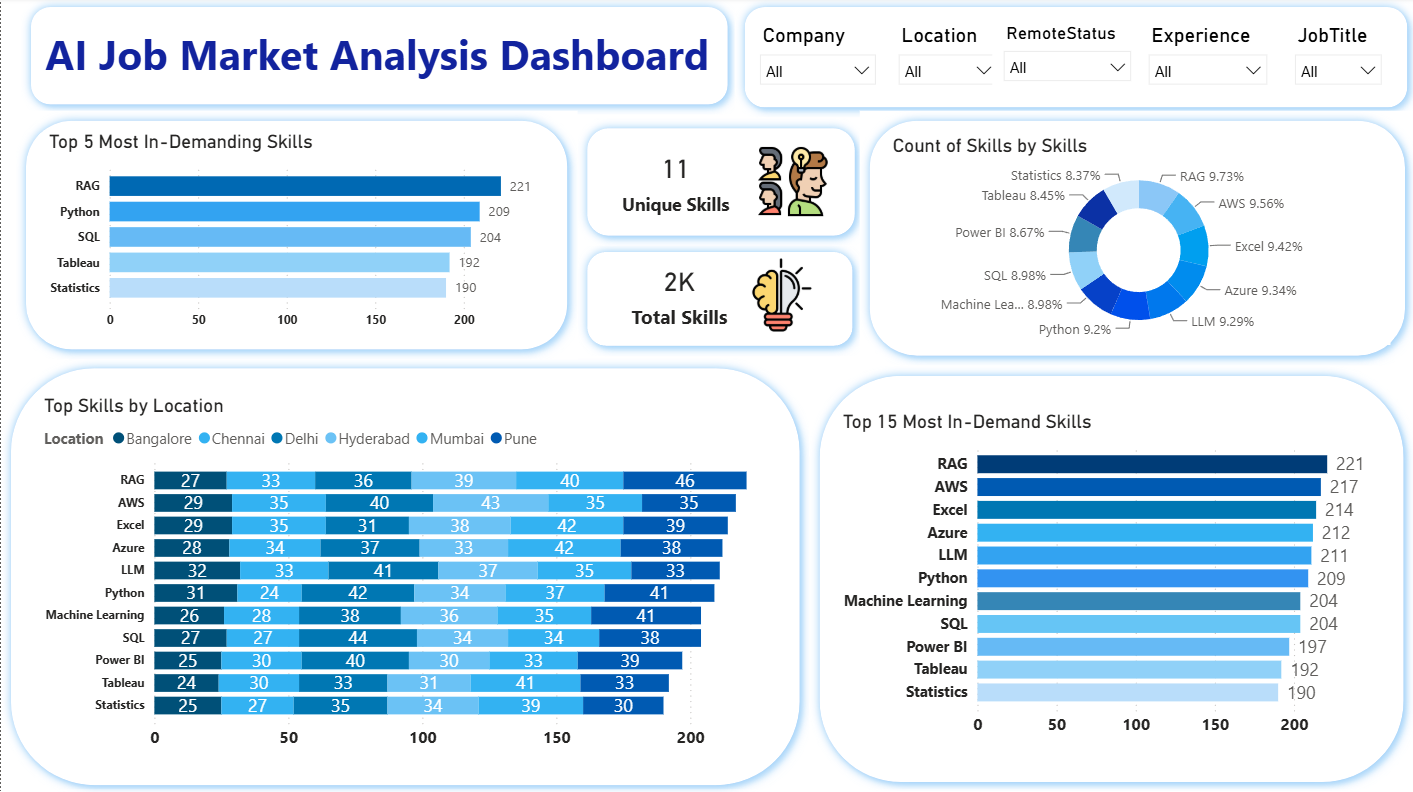

The page's visual inventory and layout, read from the dashboard file:
{"tool":"powerbi","page":{"name":"Skills Analytics","canvas":[1280,720],"ordinal":2},"visuals":[{"type":"group","id":"g1","title":"Group 3","box":[0,0,1280.4,721.8],"z":0},{"type":"shape","box":[663.2,0,617.3,108.9],"z":0,"group":"g18"},{"type":"shape","box":[17.6,0.4,648.2,106.2],"z":0,"group":"g5"},{"type":"shape","box":[13.7,102.9,507.7,225],"z":0,"group":"g13"},{"type":"group","id":"g2","title":"Group 1","box":[776.7,102.9,502.2,230.5],"z":0,"group":"g20"},{"type":"shape","box":[776.7,102.9,502.2,230.5],"z":0,"group":"g14"},{"type":"group","id":"g3","title":"Group 1","box":[521.4,109.3,256.6,115.3],"z":0,"group":"g15"},{"type":"shape","box":[521.4,109.3,260.1,115.3],"z":0,"group":"g3"},{"type":"group","id":"g4","title":"Group 1","box":[521.5,222,258,102.9],"z":0,"group":"g12"},{"type":"shape","box":[521.5,222,258,102.9],"z":0,"group":"g4"},{"type":"shape","box":[0,326.6,731.4,395.2],"z":0,"group":"g7"},{"type":"shape","box":[731.4,333.4,546.1,385.6],"z":0,"group":"g8"},{"type":"group","id":"g5","title":"Group 1","box":[17.6,0.4,648.2,106.2],"z":1000,"group":"g1"},{"type":"textbox","box":[34.7,21.9,615.4,64.6],"z":1000,"group":"g5"},{"type":"group","id":"g6","title":"Group 1","box":[13.7,102.9,507.7,225],"z":1000,"group":"g19"},{"type":"card","fields":{"Values":["AI_Job_Market.Unique Skills"]},"box":[549.7,124.2,121.7,82.3],"z":1000,"group":"g15"},{"type":"card","fields":{"Values":["AI_Job_Market.Total Skills"]},"box":[557.1,230.5,115.3,74.1],"z":1000,"group":"g12"},{"type":"group","id":"g7","title":"Group 1","box":[0,326.6,731.4,395.2],"z":1000,"group":"g9"},{"type":"group","id":"g8","title":"Group 1","box":[731.4,333.4,546.1,385.6],"z":1000,"group":"g10"},{"type":"barChart","title":"Top Skills by Location","fields":{"Category":["AI_Job_Market.Skills"],"Y":["CountNonNull(AI_Job_Market.Skills)"],"Series":["AI_Job_Market.Location"]},"box":[34.3,359.5,658.7,330.7],"z":1000},{"type":"group","id":"g9","title":"Group 5","box":[0,326.6,731.4,395.2],"z":1001,"group":"g17"},{"type":"group","id":"g10","title":"Group 4","box":[731.4,333.4,546.1,385.6],"z":1001,"group":"g16"},{"type":"group","id":"g11","title":"Group 6","box":[13.7,102.9,507.7,225],"z":2000},{"type":"donutChart","fields":{"Y":["CountNonNull(AI_Job_Market.Skills)"],"Category":["AI_Job_Market.Skills"]},"box":[802,124.4,455.3,190.4],"z":2000,"group":"g14"},{"type":"image","box":[672.9,133.8,88,64.5],"z":2000,"group":"g15"},{"type":"group","id":"g12","title":"Group 2","box":[521.5,222,258,102.9],"z":2000,"group":"g1"},{"type":"image","box":[659.8,236.3,94.2,66.6],"z":2000,"group":"g12"},{"type":"group","id":"g13","title":"Group 7","box":[13.7,102.9,507.7,225],"z":2001,"group":"g6"},{"type":"group","id":"g14","title":"Group 7","box":[776.7,102.9,502.2,230.5],"z":2001,"group":"g2"},{"type":"group","id":"g15","title":"Group 2","box":[521.4,109.3,256.6,115.3],"z":3000,"group":"g1"},{"type":"clusteredBarChart","title":"Top 5 Most In-Demanding Skills","fields":{"Category":["AI_Job_Market.Skills"],"Y":["CountNonNull(AI_Job_Market.Skills)"]},"box":[38.4,120.8,456.9,188],"z":3000},{"type":"group","id":"g16","title":"Group 2","box":[731.4,333.4,546.1,385.6],"z":4000,"group":"g1"},{"type":"group","id":"g17","title":"Group 2","box":[0,326.6,731.4,395.2],"z":5000,"group":"g1"},{"type":"group","id":"g18","title":"Group 1","box":[663.2,0,617.3,108.9],"z":6000,"group":"g1"},{"type":"clusteredBarChart","title":"Top 15 Most In-Demand Skills","fields":{"Y":["CountNonNull(AI_Job_Market.Skills)"],"Category":["AI_Job_Market.Skills"]},"box":[756.1,374.6,495.4,304.6],"z":6001,"group":"g10"},{"type":"slicer","fields":{"Values":["AI_Job_Market.Company"]},"box":[676.5,19.2,124.9,65.9],"z":7000,"group":"g1"},{"type":"slicer","fields":{"Values":["AI_Job_Market.Location"]},"box":[801.4,19.2,109.8,65.9],"z":8000,"group":"g1"},{"type":"slicer","fields":{"Values":["AI_Job_Market.RemoteStatus"]},"box":[896.1,19.2,135.8,65.9],"z":9000,"group":"g1"},{"type":"group","id":"g19","title":"Group 2","box":[13.7,102.9,507.7,225],"z":9000,"group":"g11"},{"type":"group","id":"g20","title":"Group 2","box":[776.7,102.9,502.2,230.5],"z":9000,"group":"g21"},{"type":"slicer","fields":{"Values":["AI_Job_Market.Experience"]},"box":[1027.8,19.2,127.6,65.9],"z":10000,"group":"g1"},{"type":"slicer","fields":{"Values":["AI_Job_Market.JobTitle"]},"box":[1159.6,19.2,98.8,65.9],"z":10000},{"type":"group","id":"g21","title":"Group 6","box":[776.7,102.9,502.2,230.5],"z":10500,"group":"g1"}]}

Visuals, with their boxes in screenshot pixels (x1, y1, x2, y2), scaled from the page's 1280x720 canvas onto the 1413x792 screenshot:
"Group 3" group: BBox(0, 0, 1412, 791)
shape: BBox(732, 0, 1412, 120)
shape: BBox(19, 0, 735, 117)
shape: BBox(15, 113, 576, 361)
"Group 1" group: BBox(857, 113, 1412, 367)
shape: BBox(857, 113, 1412, 367)
"Group 1" group: BBox(576, 120, 859, 247)
shape: BBox(576, 120, 863, 247)
"Group 1" group: BBox(576, 244, 860, 357)
shape: BBox(576, 244, 860, 357)
shape: BBox(0, 359, 807, 791)
shape: BBox(807, 367, 1410, 791)
"Group 1" group: BBox(19, 0, 735, 117)
textbox: BBox(38, 24, 718, 95)
"Group 1" group: BBox(15, 113, 576, 361)
card - AI_Job_Market.Unique Skills: BBox(607, 137, 741, 227)
card - AI_Job_Market.Total Skills: BBox(615, 254, 742, 335)
"Group 1" group: BBox(0, 359, 807, 791)
"Group 1" group: BBox(807, 367, 1410, 791)
"Top Skills by Location" barChart: BBox(38, 395, 765, 759)
"Group 5" group: BBox(0, 359, 807, 791)
"Group 4" group: BBox(807, 367, 1410, 791)
"Group 6" group: BBox(15, 113, 576, 361)
donutChart - CountNonNull(AI_Job_Market.Skills) x AI_Job_Market.Skills: BBox(885, 137, 1388, 346)
image: BBox(743, 147, 840, 218)
"Group 2" group: BBox(576, 244, 860, 357)
image: BBox(728, 260, 832, 333)
"Group 7" group: BBox(15, 113, 576, 361)
"Group 7" group: BBox(857, 113, 1412, 367)
"Group 2" group: BBox(576, 120, 859, 247)
"Top 5 Most In-Demanding Skills" clusteredBarChart: BBox(42, 133, 547, 340)
"Group 2" group: BBox(807, 367, 1410, 791)
"Group 2" group: BBox(0, 359, 807, 791)
"Group 1" group: BBox(732, 0, 1412, 120)
"Top 15 Most In-Demand Skills" clusteredBarChart: BBox(835, 412, 1382, 747)
slicer - AI_Job_Market.Company: BBox(747, 21, 885, 94)
slicer - AI_Job_Market.Location: BBox(885, 21, 1006, 94)
slicer - AI_Job_Market.RemoteStatus: BBox(989, 21, 1139, 94)
"Group 2" group: BBox(15, 113, 576, 361)
"Group 2" group: BBox(857, 113, 1412, 367)
slicer - AI_Job_Market.Experience: BBox(1135, 21, 1275, 94)
slicer - AI_Job_Market.JobTitle: BBox(1280, 21, 1389, 94)
"Group 6" group: BBox(857, 113, 1412, 367)
